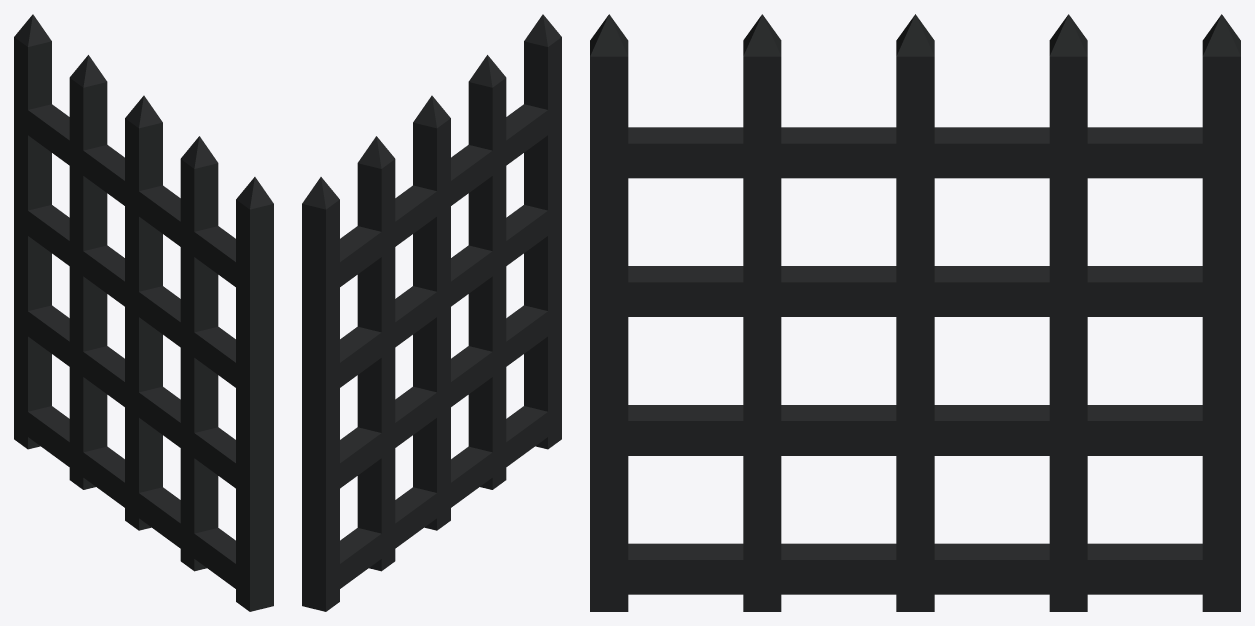
The model's file is gate.gltf.
The picture shows the model from 3 angles, left to right: view 1: azimuth 30°, elevation 25°; view 2: azimuth 150°, elevation 25°; view 3: azimuth 270°, elevation 25°; orthographic projection. The views are drawn at different scales.
Visible parts, largest first — view 1: gate; view 2: gate; view 3: gate.
Boxes of the visible parts, x1,y1,x2,y2 form: gate: (14,14,273,611); gate: (302,14,561,611); gate: (590,14,1240,611).
Bounding box in the file's own units: 0.0625 × 1.06 × 1.06.
1 material, 1 textured.
